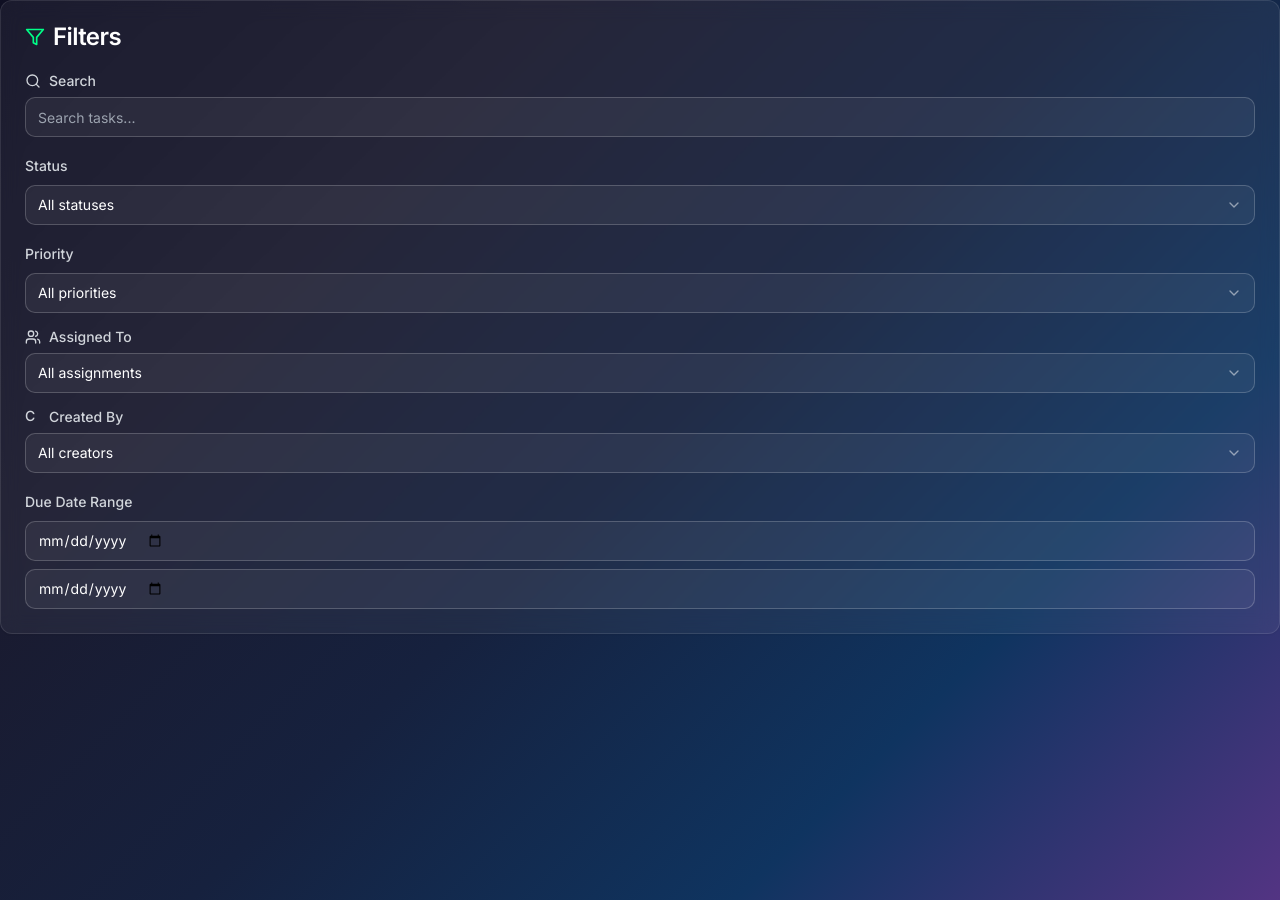
Test: TaskFilters › shows filter summary when filters are active
The image size is (1280, 900).
Type "test" into the field with placeholder "Search tasks..." at x=640, y=117, box [25, 97, 1255, 137]
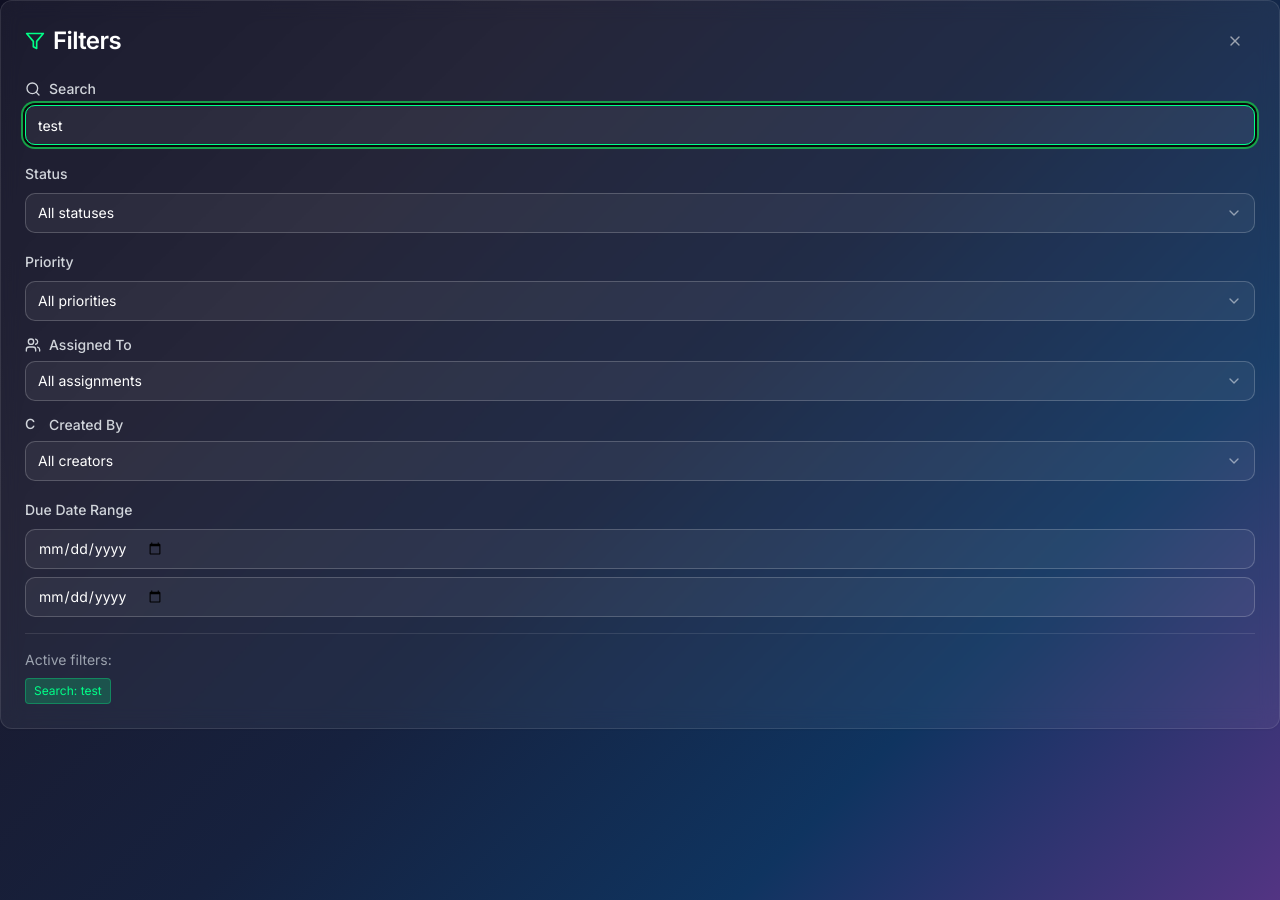
Expected: the text "Active filters:" is shown, [25, 651, 112, 668]
Expected: the text "Search: test" is shown, [25, 678, 111, 704]
